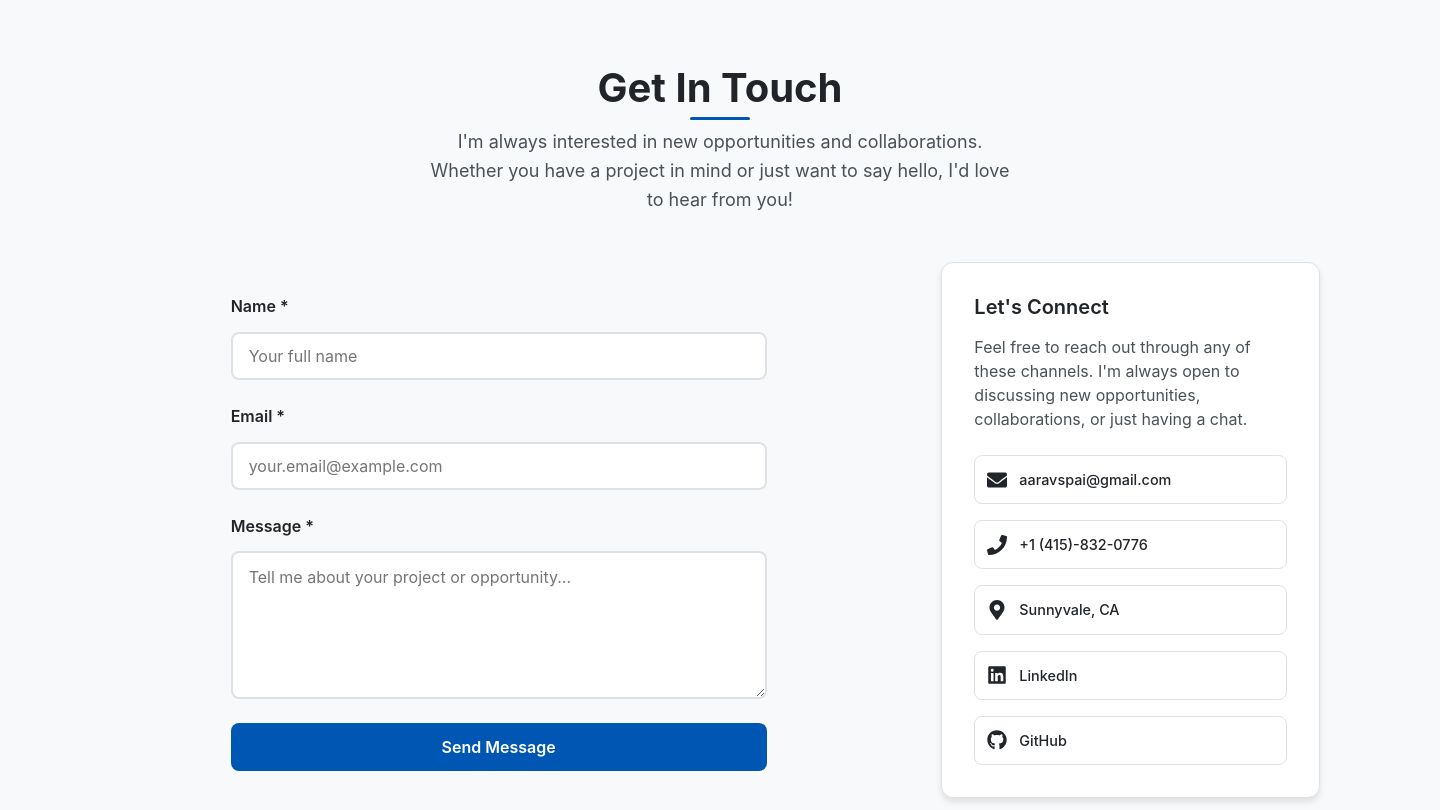
Test: Contact › Form Submission Success › allows dismissing success message
Type "John Doe" into the field labelled "Name *". click: (499, 356)
box: 231,332 -> 767,380
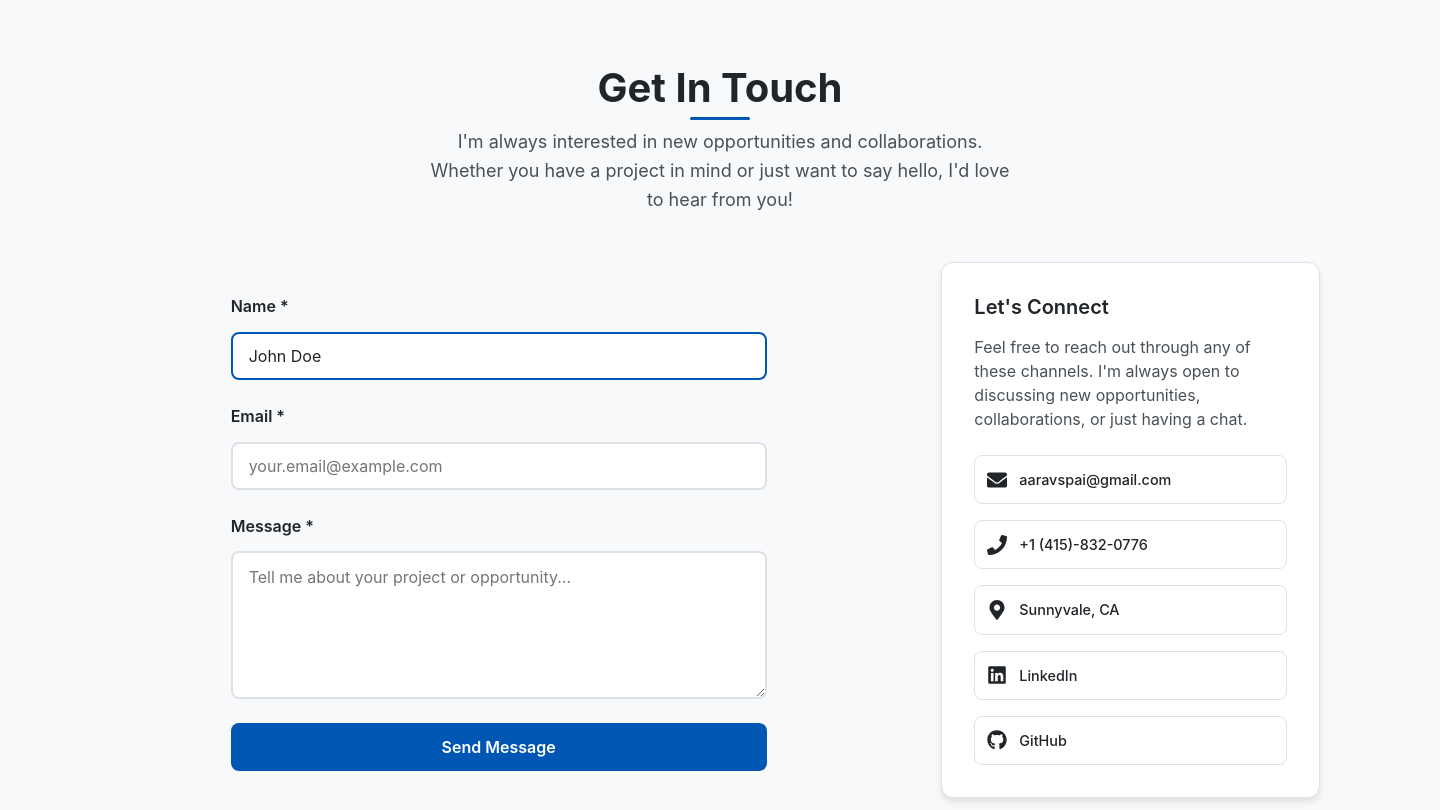
Type "john@example.com" into the field labelled "Email *". click: (499, 466)
box: 231,442 -> 767,490
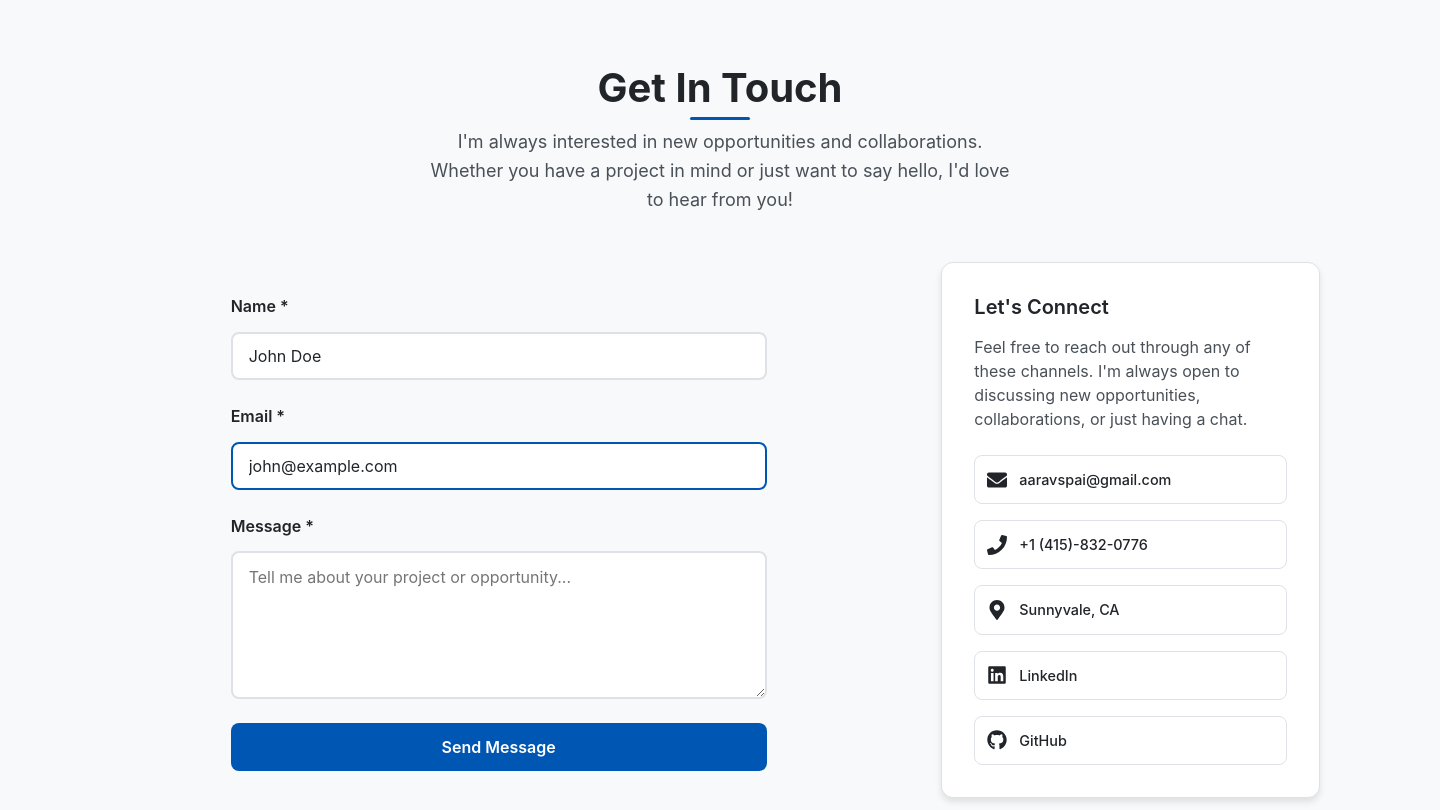
Type "This is a test message with enough characters." into the text box labelled "Message *". click: (499, 625)
box: 231,551 -> 767,699
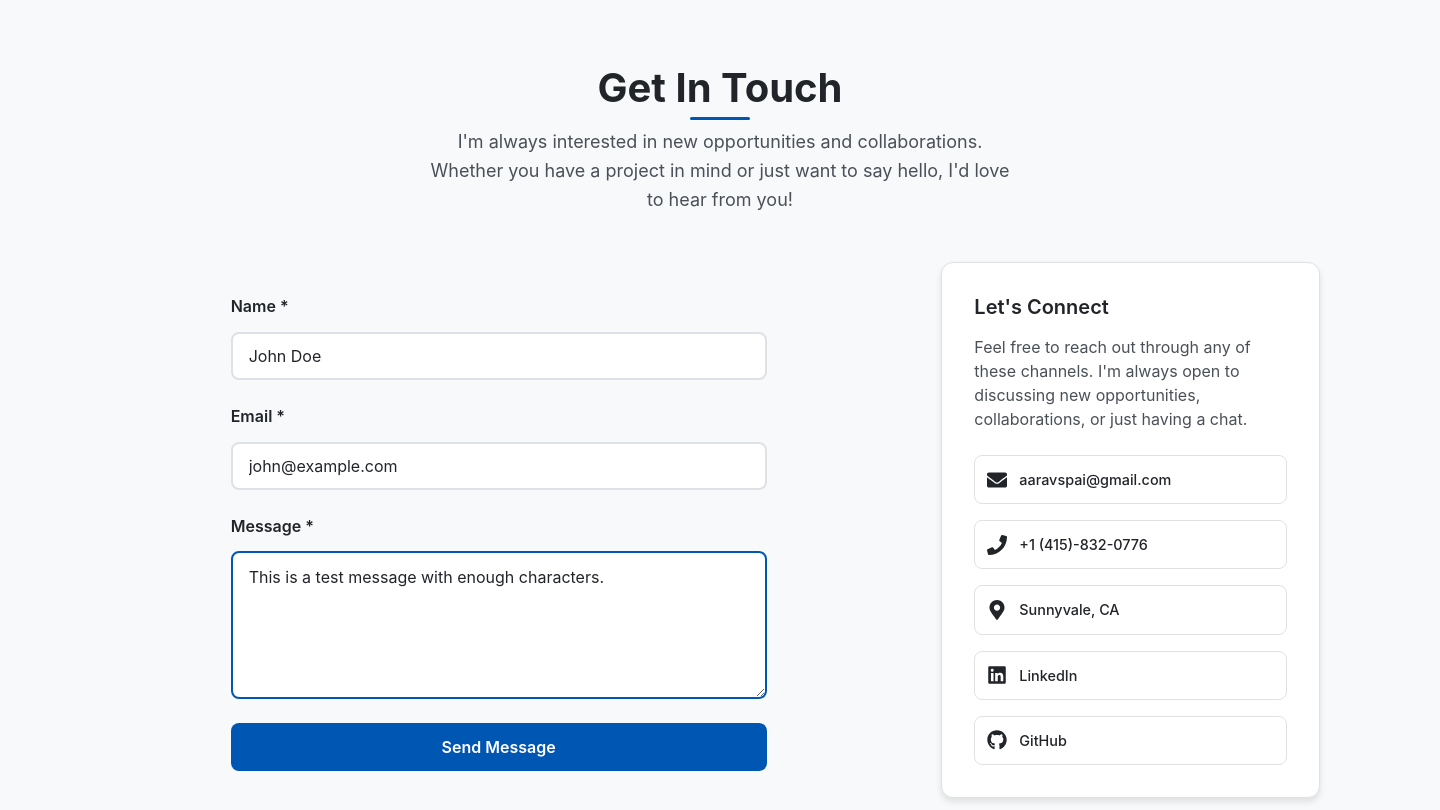
Click the button "Send Message". click: (499, 747)
box: 231,723 -> 767,771
(page scrolled)
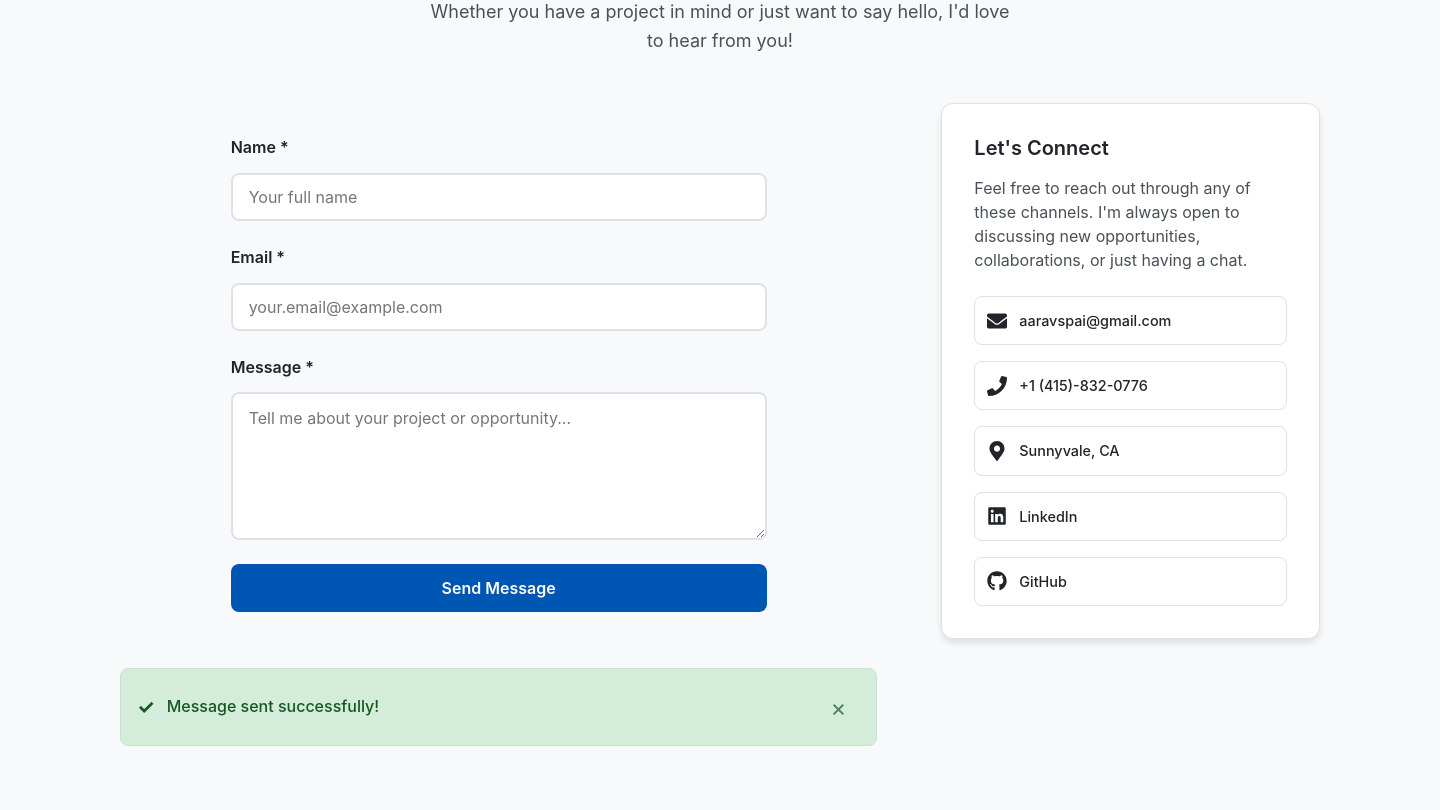
Result: the text "Message sent successfully!" is shown at 167,696 -> 379,716
Click the button named "dismiss message". click: (838, 707)
box: 816,685 -> 860,729
(page scrolled)
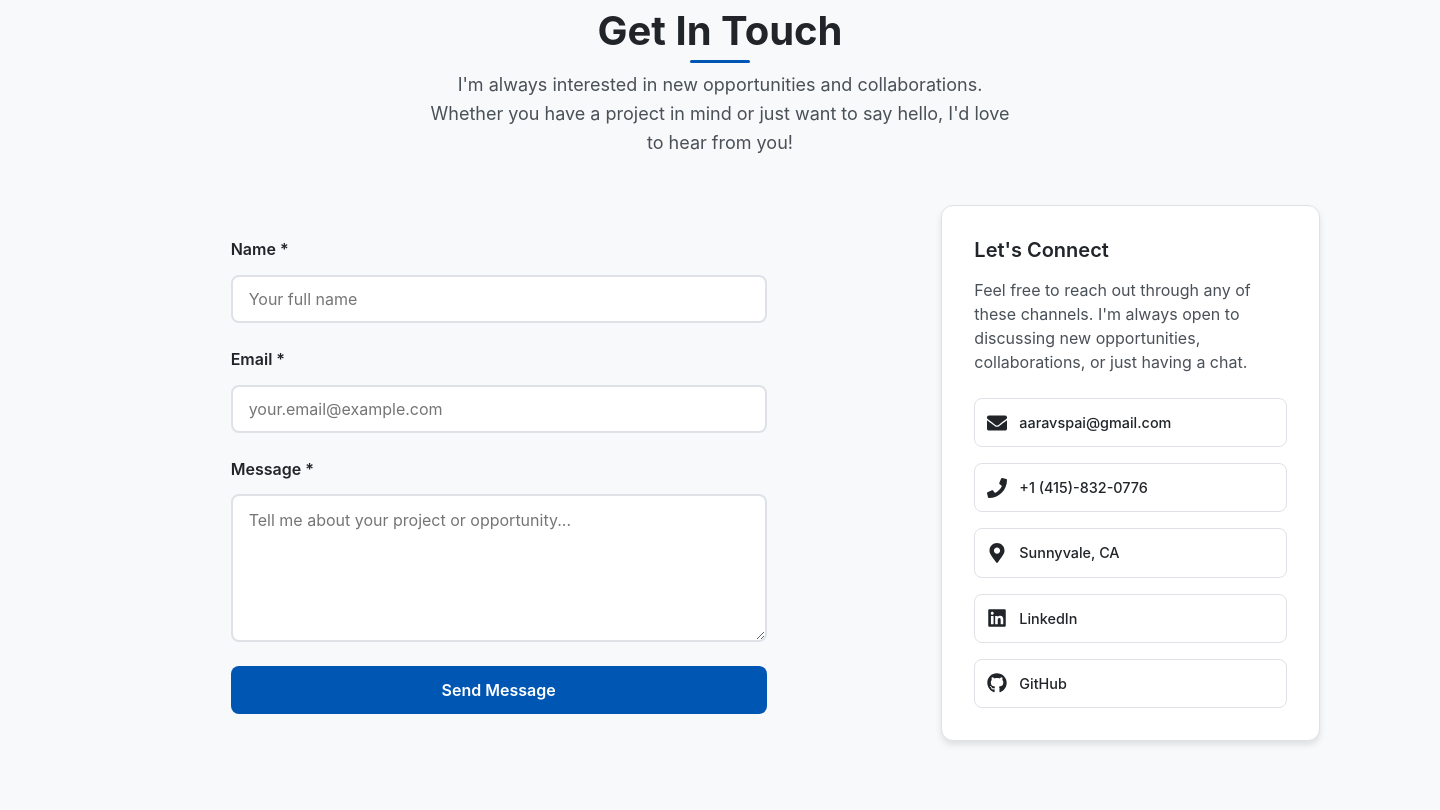
Result: the text "Message sent successfully!" is gone
Result: the message "✓ Message sent successfully! ×" is gone
